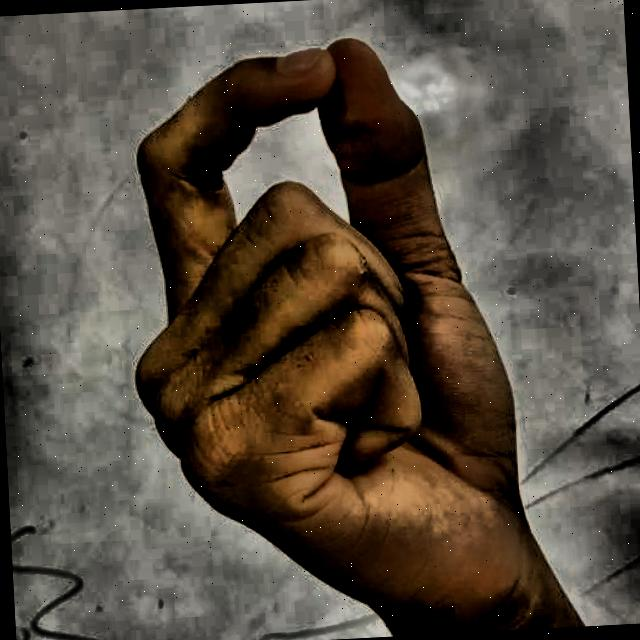Gha: (81, 17, 583, 640)
